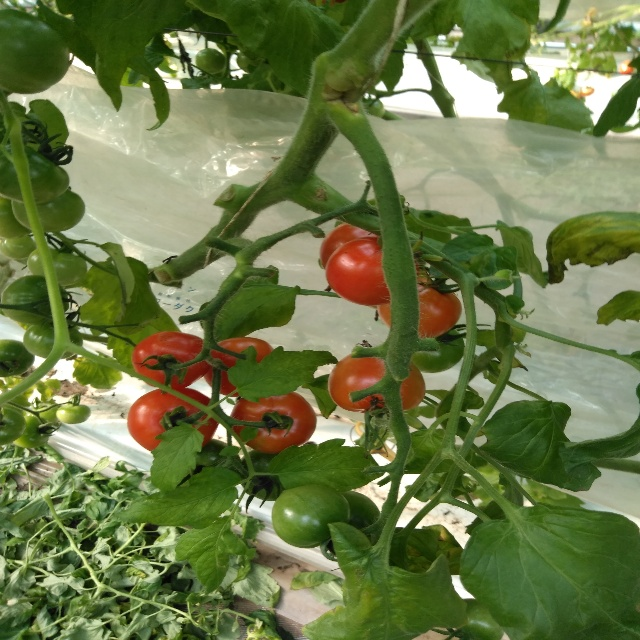l_fully_ripened: (127, 387, 220, 456), (327, 350, 426, 412), (230, 386, 317, 453), (375, 277, 461, 338), (322, 236, 392, 307), (132, 331, 215, 388), (205, 337, 281, 398), (319, 222, 378, 269)
l_green: (0, 9, 70, 95), (271, 485, 349, 550), (0, 145, 69, 205), (0, 275, 69, 326), (11, 187, 85, 233), (239, 449, 285, 503), (27, 246, 88, 286), (23, 320, 83, 360), (413, 327, 464, 373), (340, 489, 380, 541), (458, 598, 504, 639), (192, 437, 240, 475), (0, 196, 34, 239), (0, 339, 35, 377), (12, 416, 52, 449), (0, 406, 26, 445), (0, 235, 35, 260), (195, 48, 226, 75), (56, 403, 91, 424)
